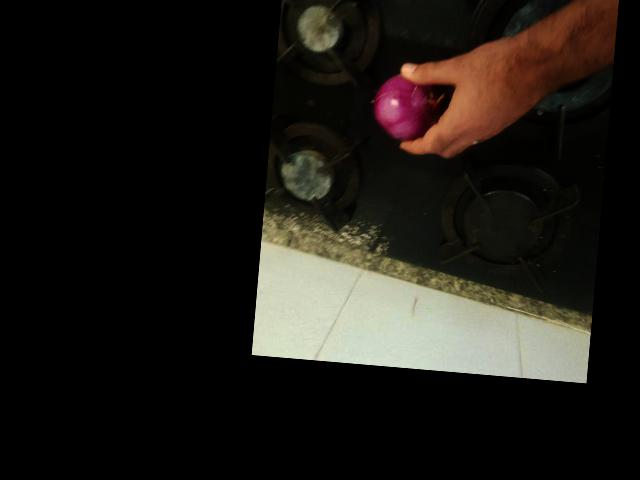onion: (302, 193, 375, 267)
